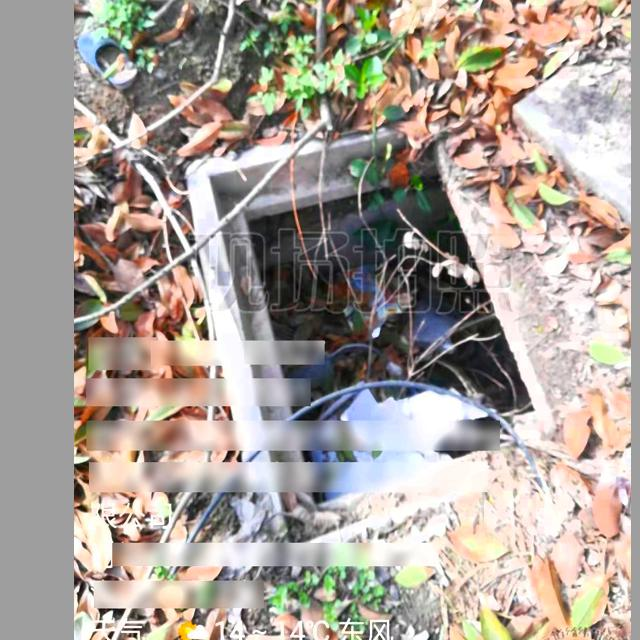lose: (183, 119, 559, 563)
